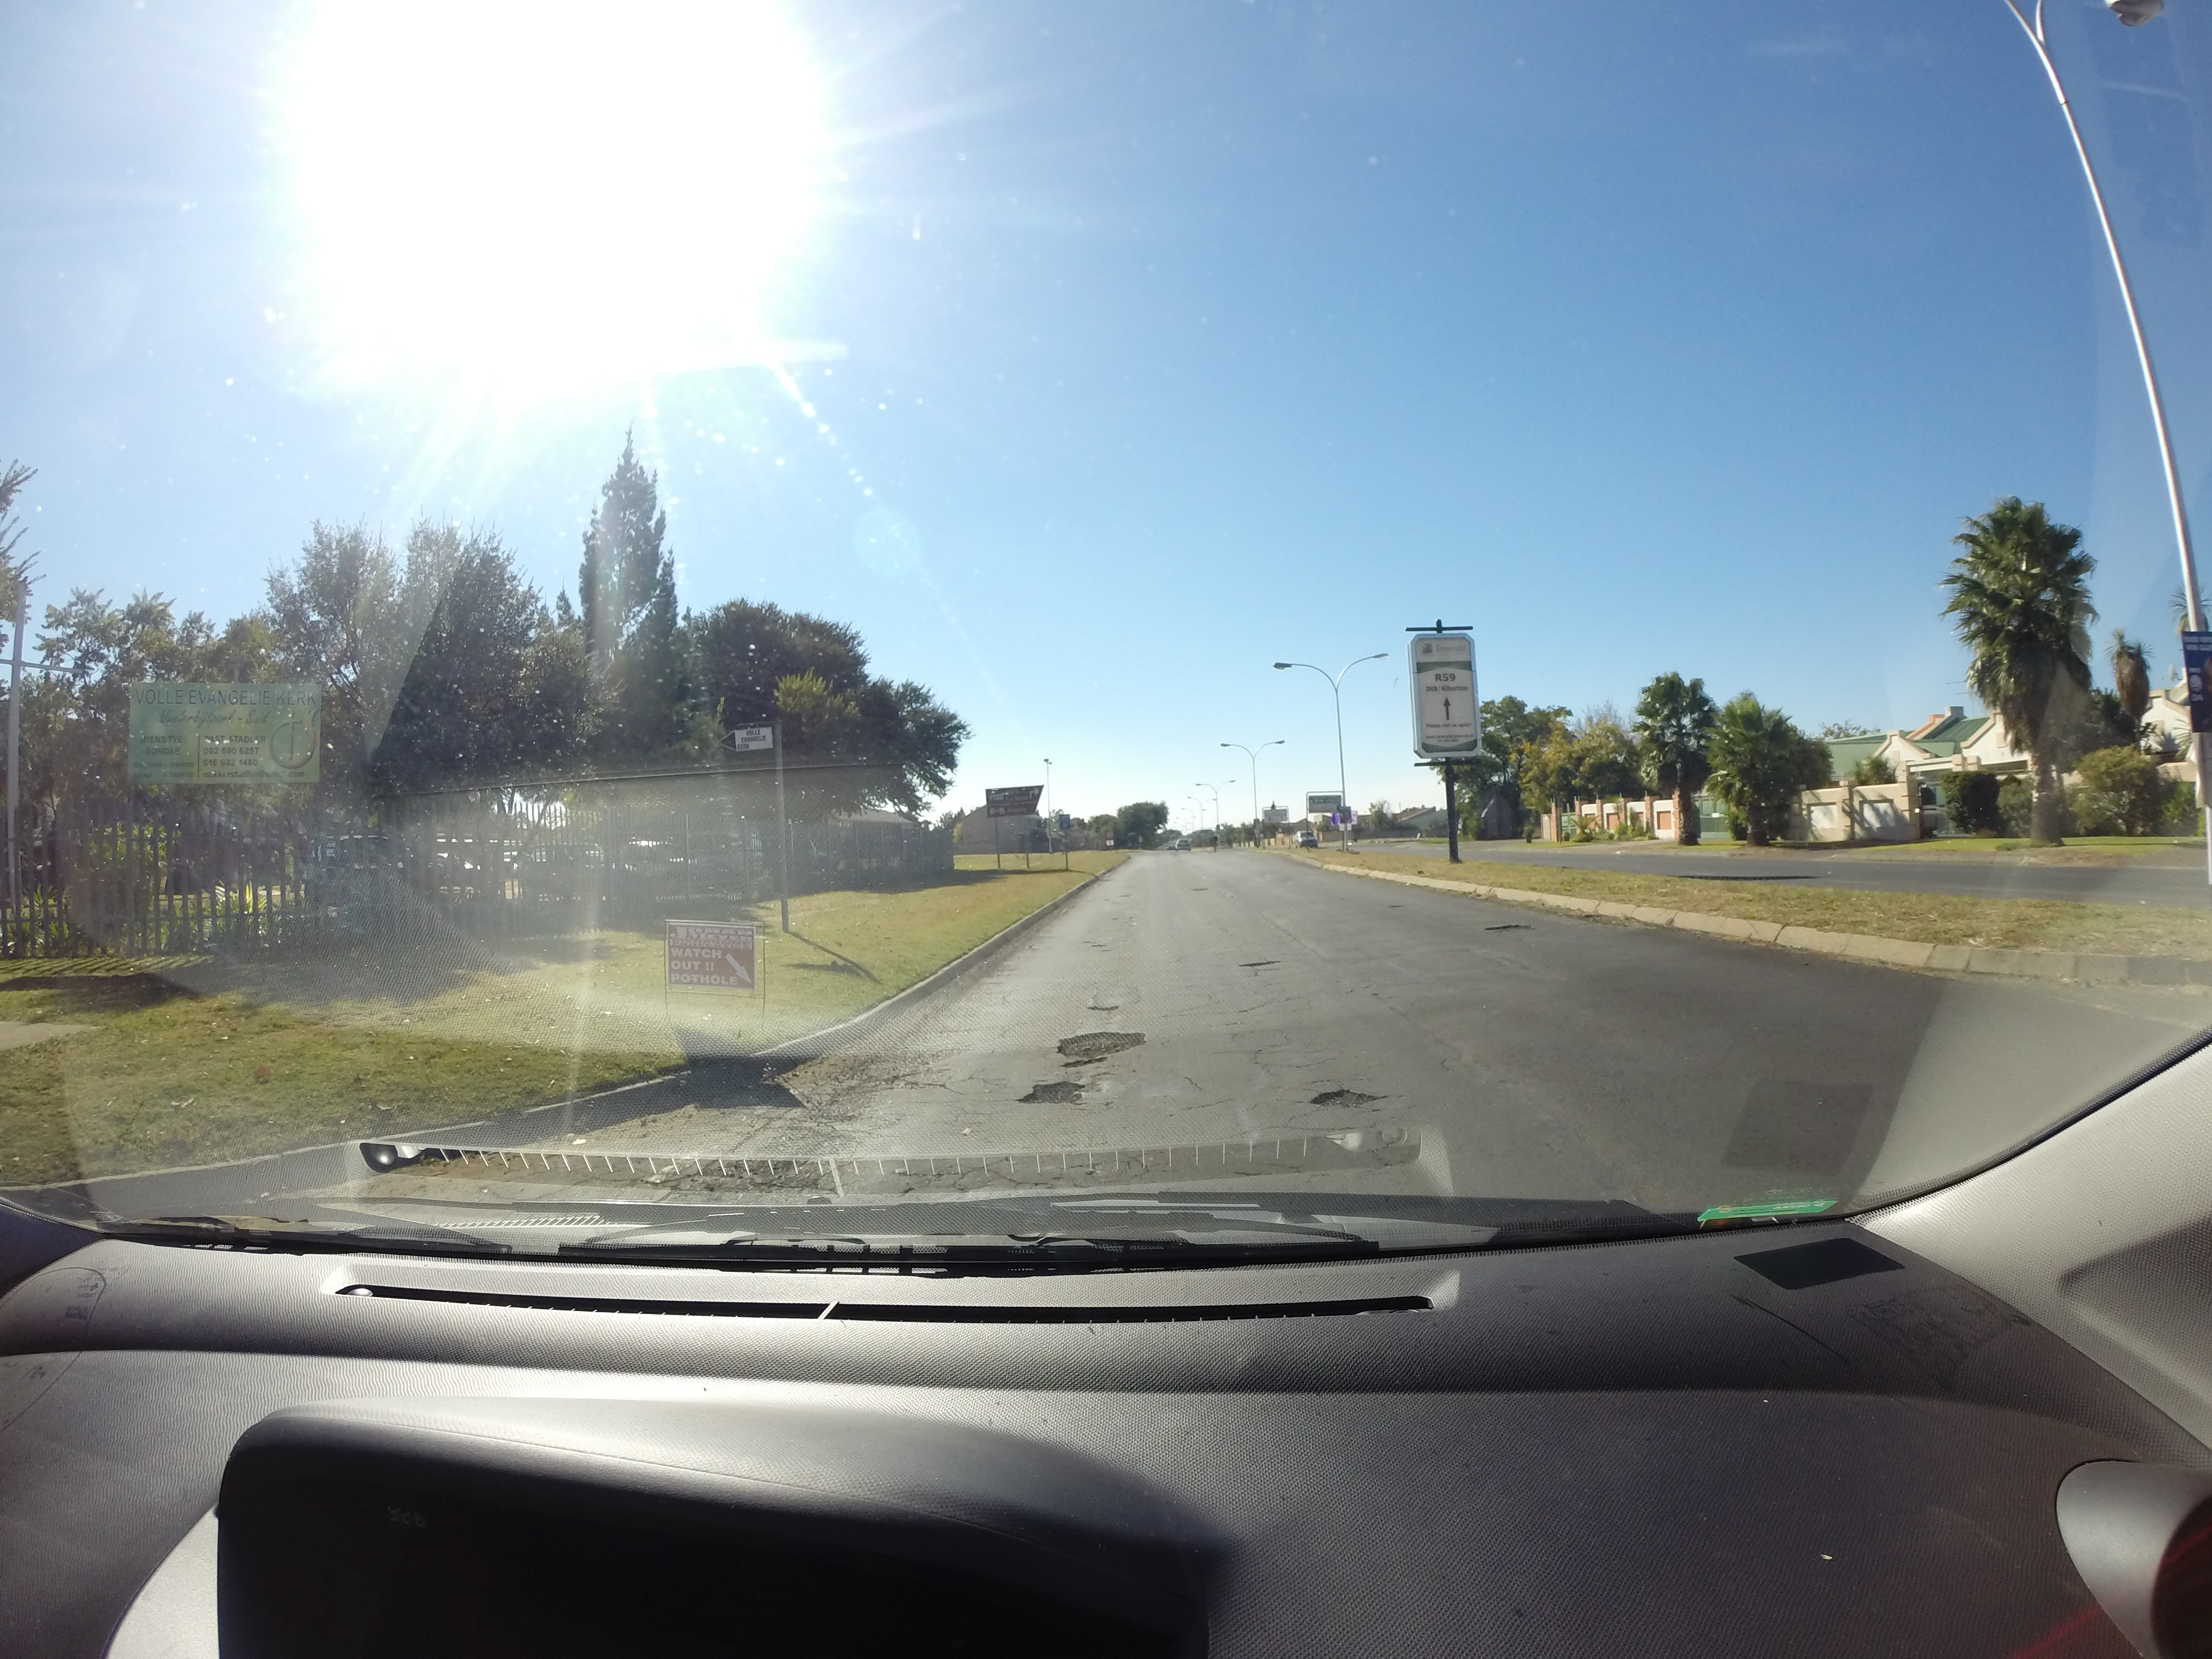pothole: (1019, 1004, 1143, 1122), (1305, 1066, 1390, 1133)
